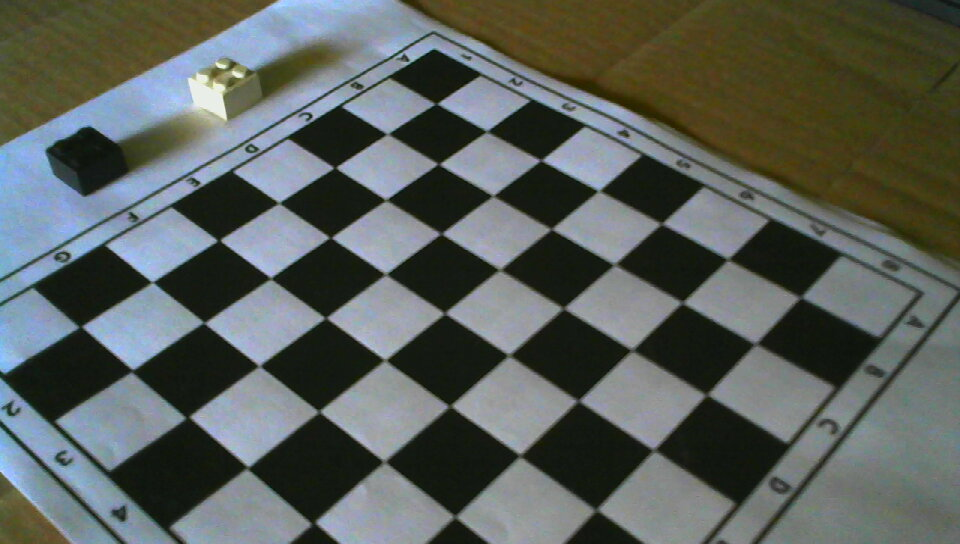bp: (47, 125, 127, 195), (188, 56, 262, 120)
